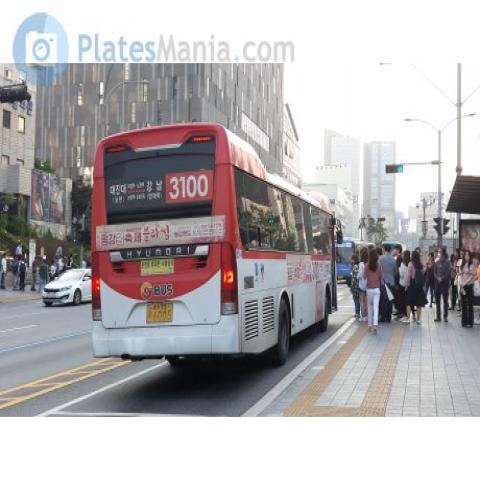LP: (141, 299, 180, 328)
